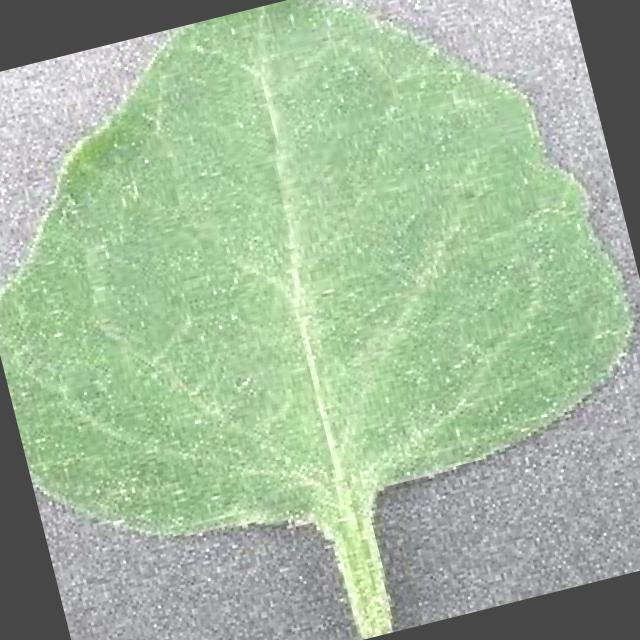healthy: (0, 0, 628, 632)
